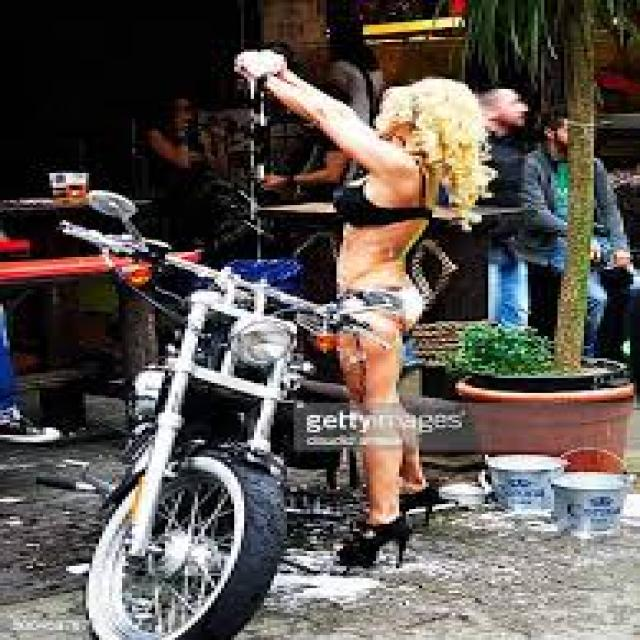MOTORCYCLE: (83, 245, 283, 638)
